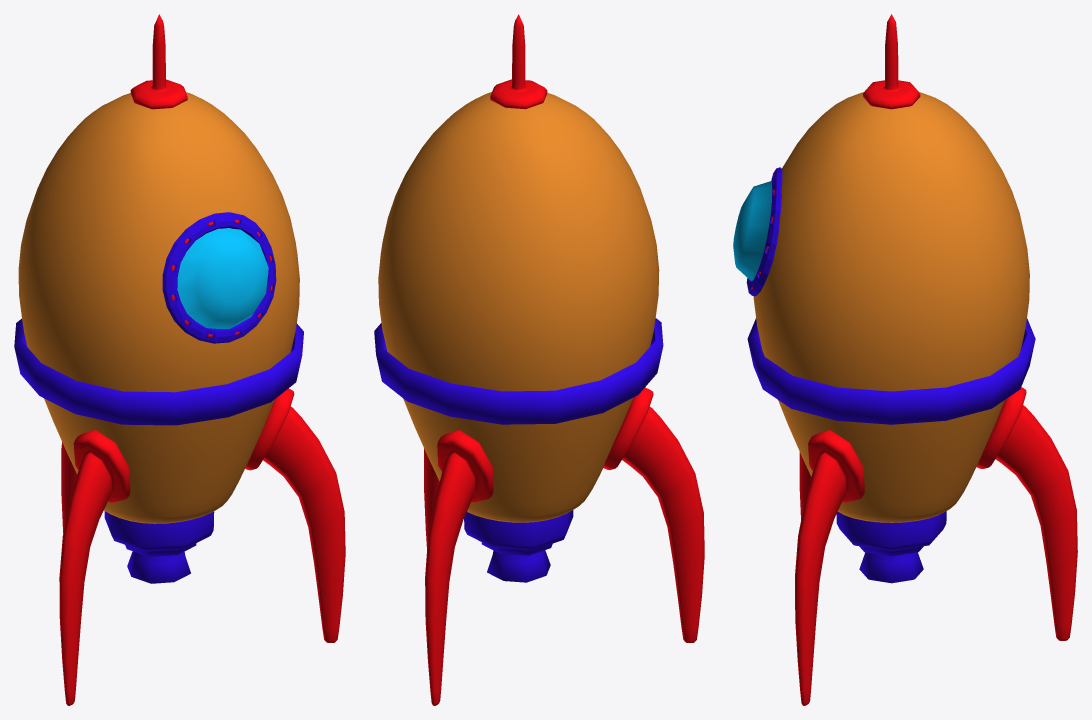
Rendered from AtomRocket.fbx.
3 views of the same model, side by side, from view 1: azimuth 30°, elevation 25°; view 2: azimuth 150°, elevation 25°; view 3: azimuth 270°, elevation 25° (orthographic).
Parts seen in each view (by area): view 1: boddy, Arm, boddy.belt, win.001, fire-nozzle, win-frem, head; view 2: boddy, Arm, boddy.belt, fire-nozzle, head; view 3: boddy, Arm, boddy.belt, fire-nozzle, win.001, head, win-frem.
Boxes of the visible parts, x1=… form: boddy: x1=18, y1=92, x2=299, y2=523; Arm: x1=59, y1=388, x2=345, y2=705; boddy.belt: x1=14, y1=318, x2=303, y2=425; win.001: x1=177, y1=228, x2=268, y2=328; fire-nozzle: x1=104, y1=511, x2=214, y2=583; win-frem: x1=162, y1=212, x2=276, y2=343; head: x1=130, y1=14, x2=187, y2=109; boddy: x1=378, y1=92, x2=659, y2=522; Arm: x1=424, y1=387, x2=704, y2=705; boddy.belt: x1=374, y1=318, x2=663, y2=424; fire-nozzle: x1=464, y1=510, x2=573, y2=582; head: x1=490, y1=14, x2=547, y2=109; boddy: x1=753, y1=92, x2=1029, y2=522; Arm: x1=795, y1=387, x2=1077, y2=705; boddy.belt: x1=747, y1=318, x2=1035, y2=424; fire-nozzle: x1=836, y1=511, x2=946, y2=583; win.001: x1=733, y1=181, x2=772, y2=281; head: x1=863, y1=14, x2=920, y2=109; win-frem: x1=746, y1=167, x2=782, y2=296.
Bounding box in the file's own units: 308 × 658 × 328.
